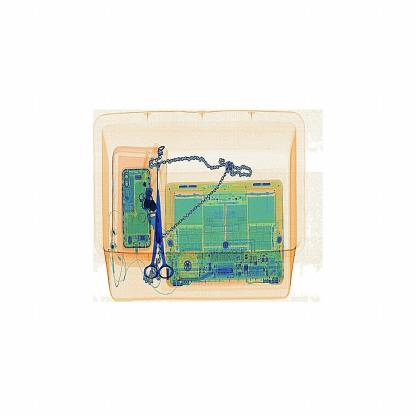gun: (143, 180, 179, 284)
